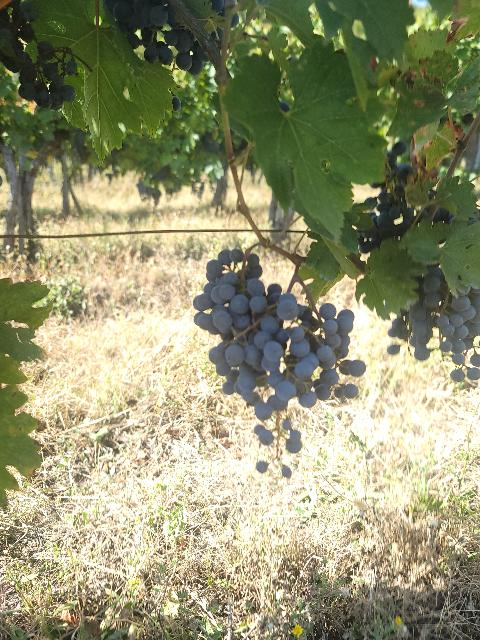grapes: (209, 292, 366, 420), (194, 249, 268, 334)
